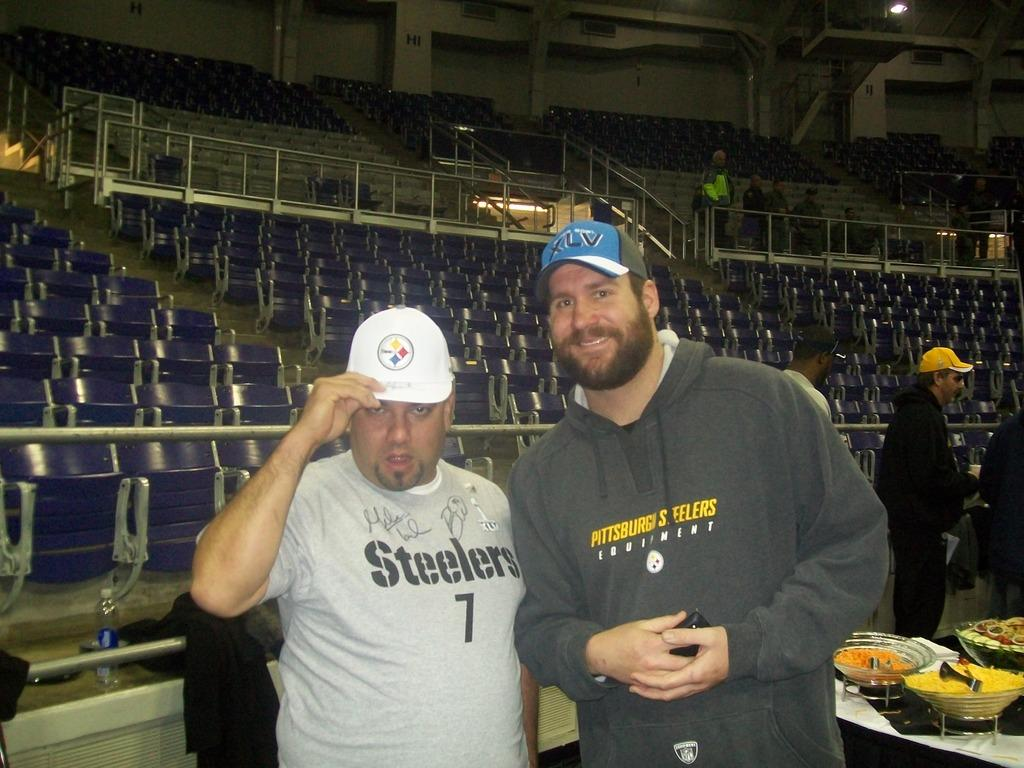Hat: (344, 304, 453, 399), (534, 218, 648, 300), (916, 344, 974, 372)
